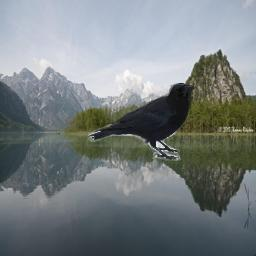Crow: (88, 83, 194, 161)
